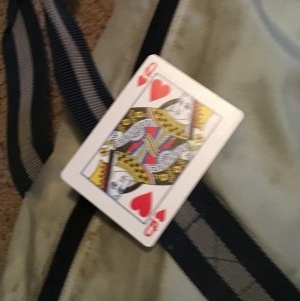card: (56, 52, 244, 249)
